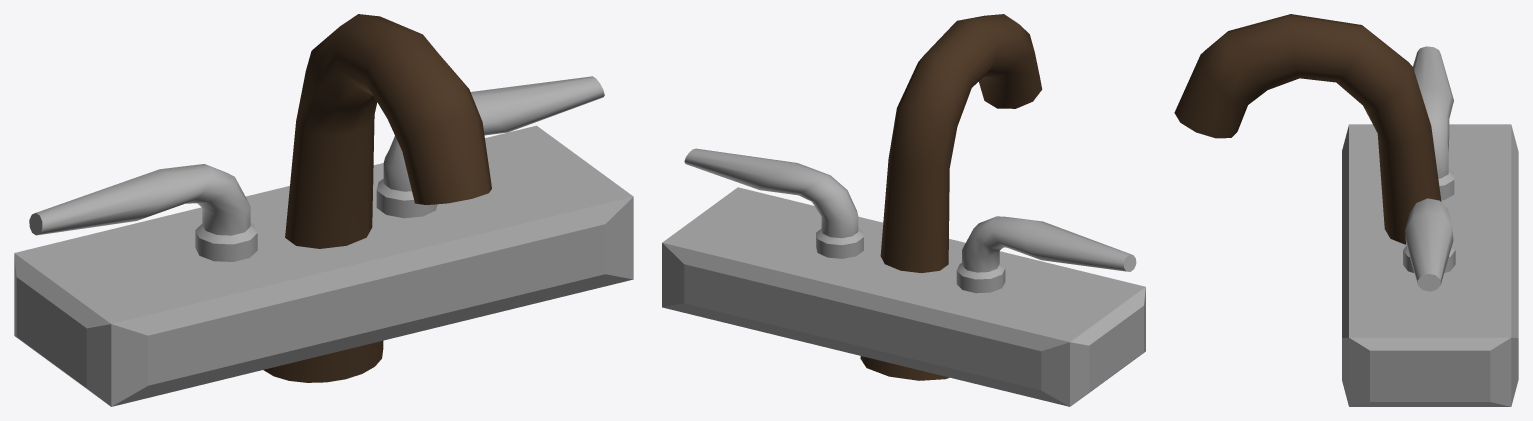
File: Tap_Finished.fbx
The picture shows the model from 3 angles, left to right: view 1: azimuth 30°, elevation 25°; view 2: azimuth 150°, elevation 25°; view 3: azimuth 270°, elevation 25°; orthographic projection. The views are drawn at different scales.
Visible parts, largest first — view 1: Tap; view 2: Tap; view 3: Tap.
Part boxes in pixels (x1,y1,x2,y2): Tap: (14, 14, 633, 406); Tap: (662, 14, 1145, 406); Tap: (1174, 14, 1518, 406).
Size of the model in its own units: 31.46 by 20.54 by 19.76.
